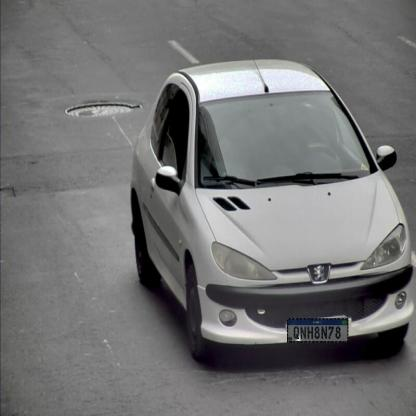PlacaM: (287, 318, 348, 343)
